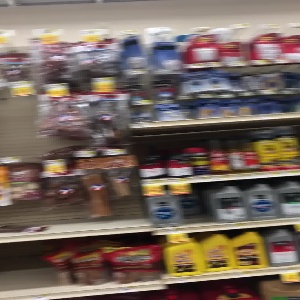void: (2, 237, 53, 300)
